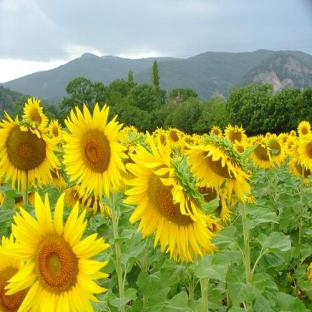sunflower: (123, 130, 231, 312), (62, 103, 129, 295), (4, 192, 111, 312)
